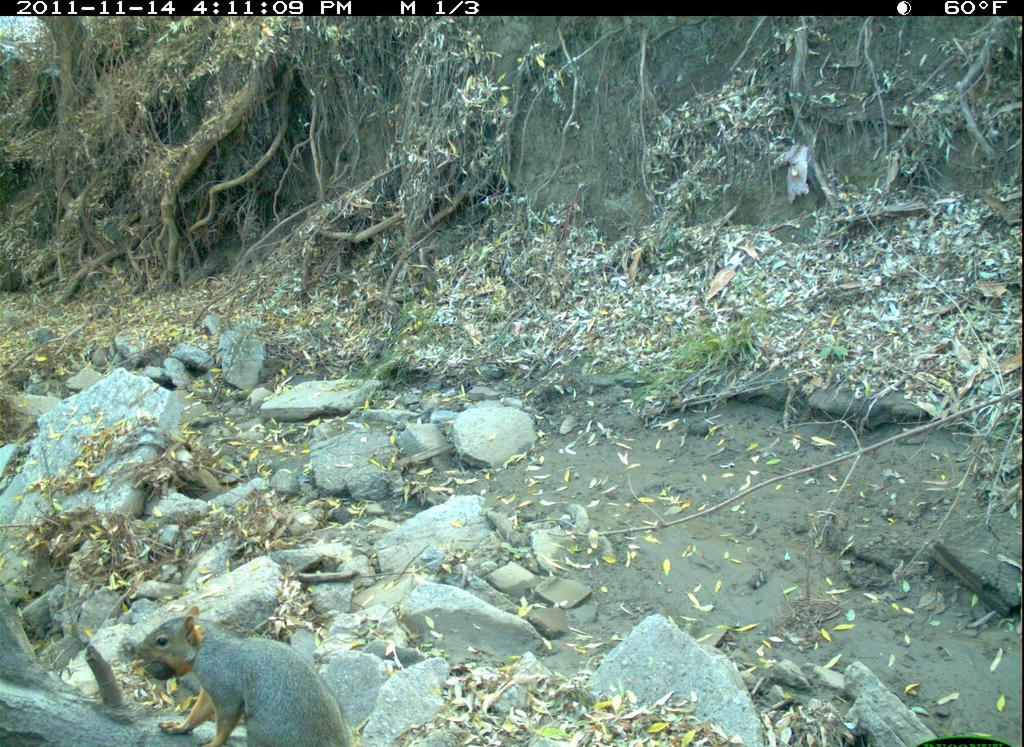squirrel: (134, 601, 355, 747)
